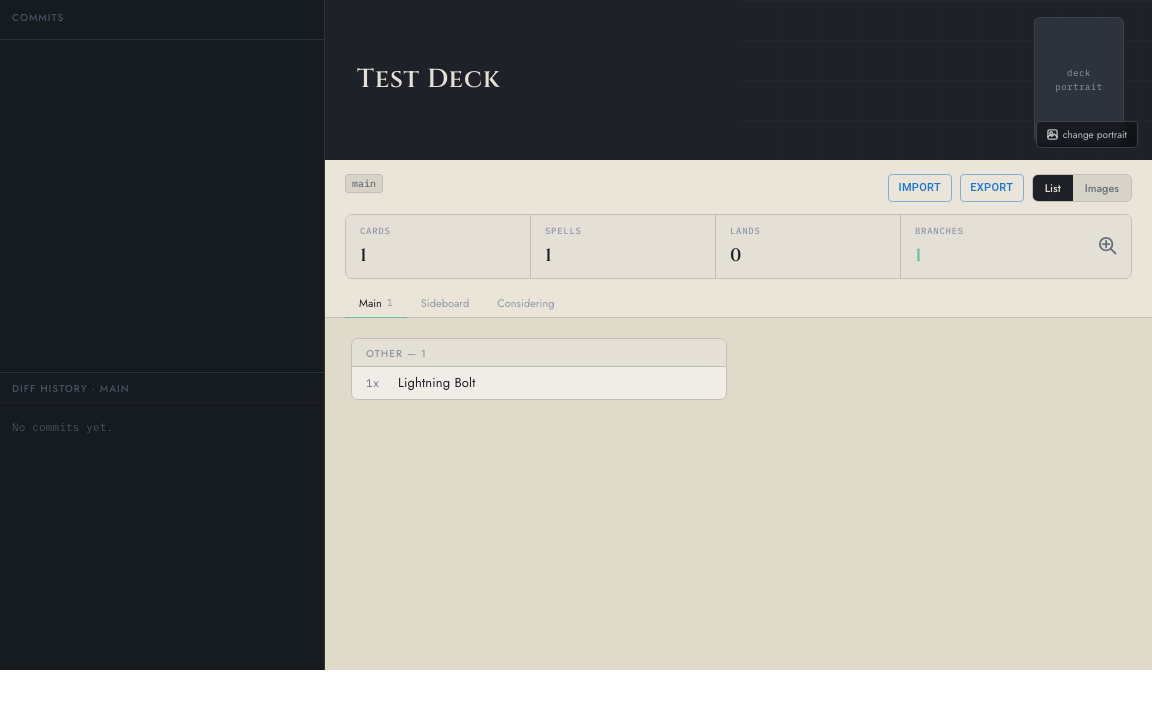
Test: Decklist — commit flow › "Commit" button appears after staging a removal
The width and height of the screenshot is (1152, 720).
Expected: the text "Lightning Bolt" is shown, [398,373,476,392]
Hover over the element showing "1x Lightning Bolt": coordinates (539, 383) [352,367,726,398]
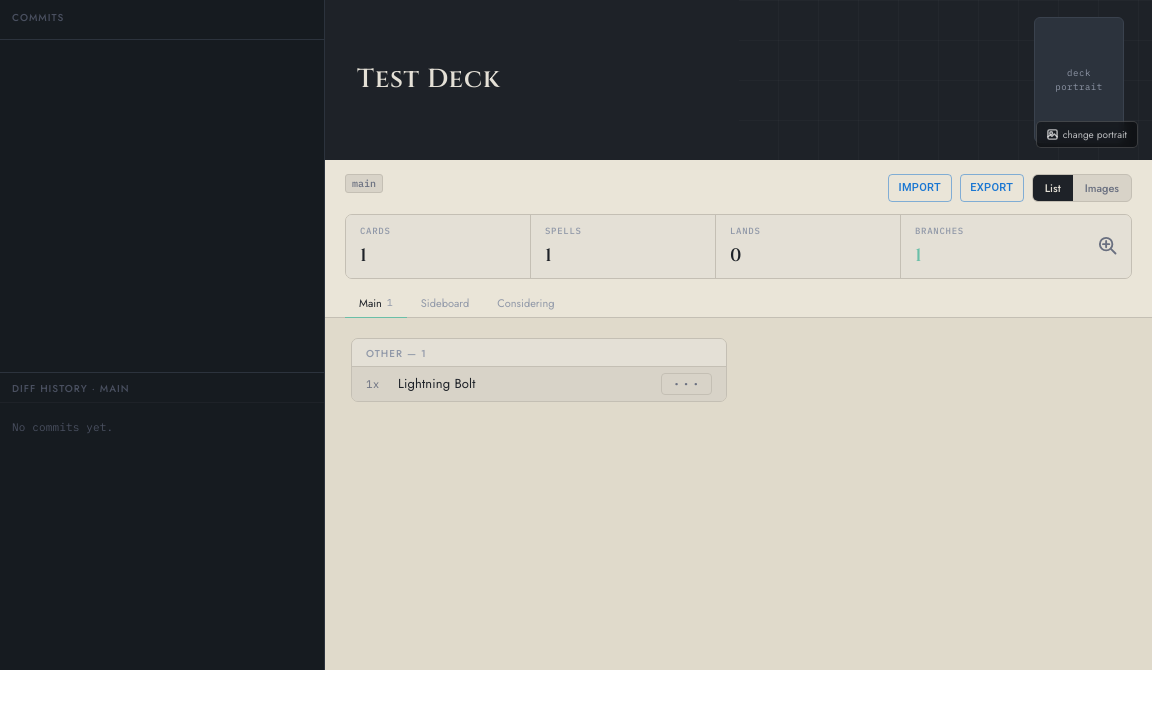
Click the button "···": coordinates (686, 384) [661,373,712,395]
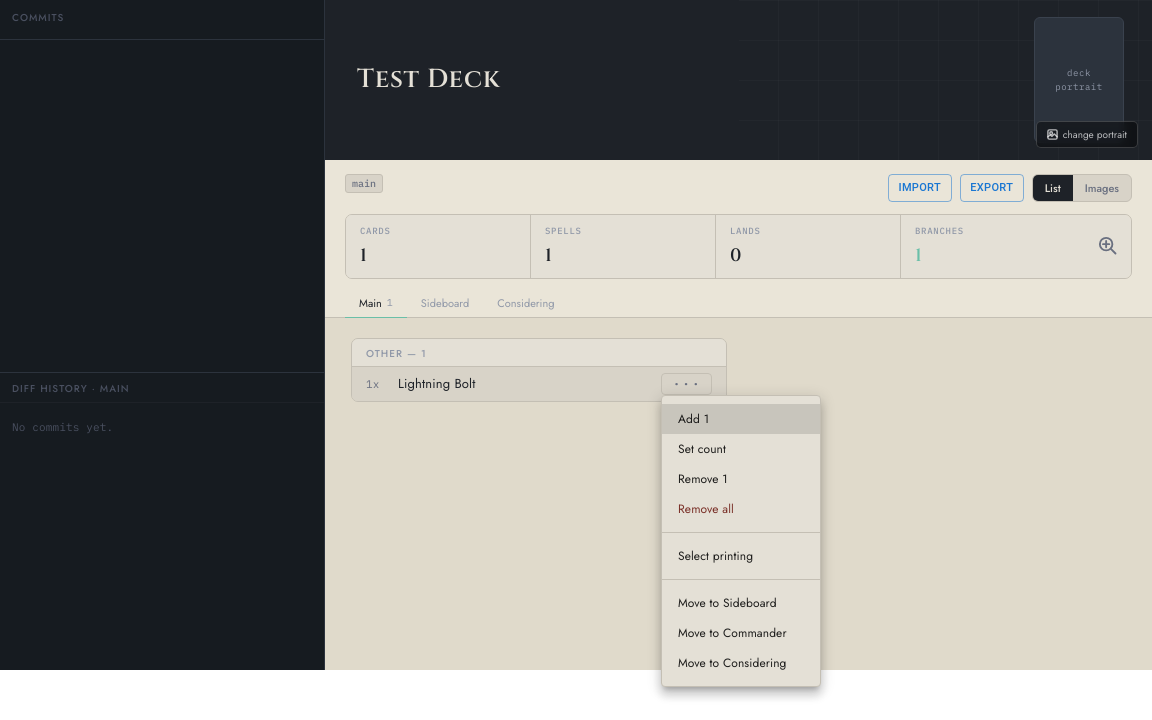
Click the menu item "Remove 1": coordinates (703, 479) [678,470,728,488]
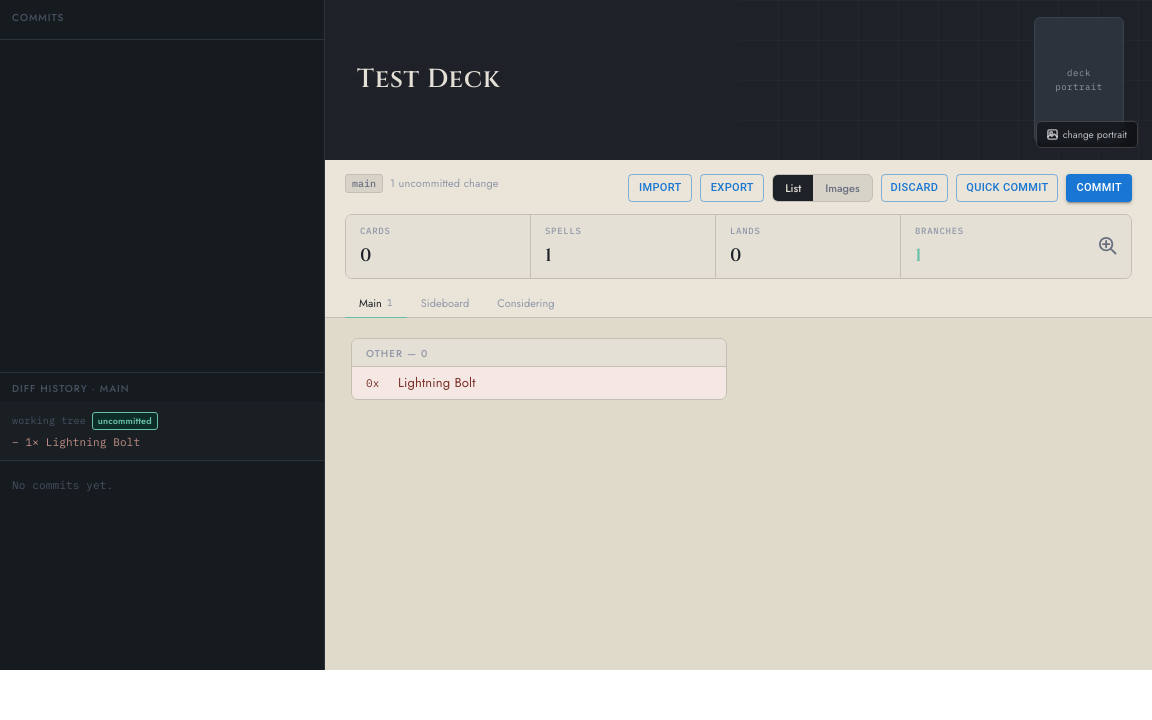
Result: the button "Commit" is shown at [1066,174,1132,202]
